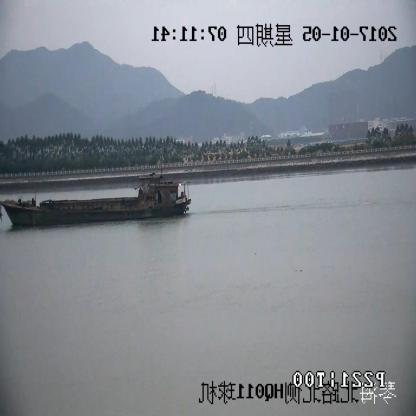Bulk Carrier: (0, 175, 190, 225)
